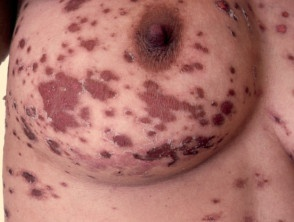SJS-TEN: (0, 0, 273, 222), (204, 2, 293, 74), (0, 153, 74, 219), (193, 167, 277, 221)
